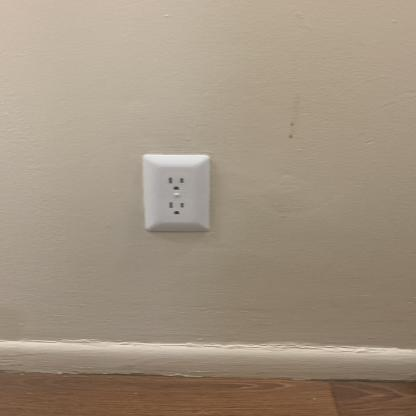OUTLET: (140, 152, 212, 234)
